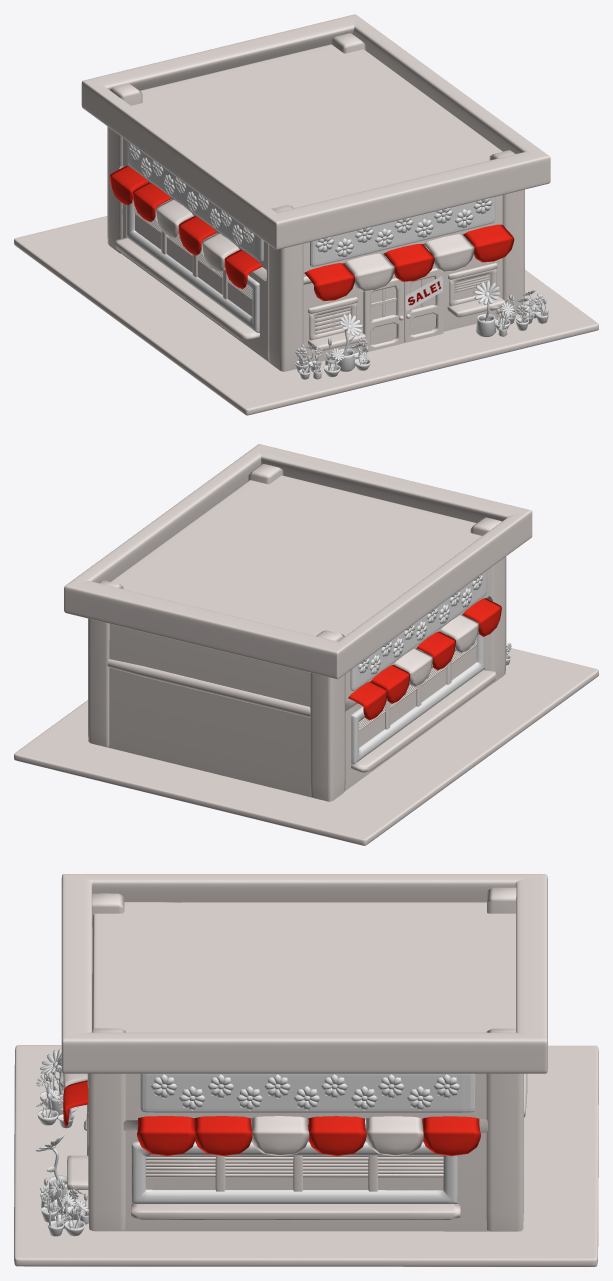
File: FLORISTERIA-BIEN.fbx
3 renders of one model, top to bottom at view 1: azimuth 30°, elevation 25°; view 2: azimuth 150°, elevation 25°; view 3: azimuth 270°, elevation 25°, orthographic. The views are drawn at different scales.
Parts seen in each view (by area): view 1: Cube.076, Cube.106, Cube.057, Cube.055, Cube.105, Cube.104, Cube.056, Cube.107, Cube.103, Cube.086, BezierCurve.005, Cube.054 (+11 smaller); view 2: Cube.076, Cube.106, Cube.057, Cube.104, Cube.055, Cube.054, Cube.107, Cylinder.006, Cube.103, Cube.086, BezierCurve.008, Cube.081; view 3: Cube.076, Cube.106, Cube.057, Cube.055, Cube.085, Cube.087, Cube.092, Cube.091, Cube.100, BezierCurve.012, Cube.058, Cube.094 (+3 smaller).
Part boxes in pixels (x1=…): Cube.076: x1=122, y1=44, x2=502, y2=362; Cube.106: x1=81, y1=14, x2=550, y2=249; Cube.057: x1=14, y1=216, x2=598, y2=415; Cube.055: x1=268, y1=33, x2=524, y2=371; Cube.105: x1=304, y1=224, x2=514, y2=301; Cube.104: x1=109, y1=166, x2=262, y2=289; Cube.056: x1=310, y1=197, x2=495, y2=266; Cube.107: x1=115, y1=237, x2=259, y2=341; Cube.103: x1=126, y1=199, x2=259, y2=332; Cube.086: x1=127, y1=141, x2=263, y2=261; BezierCurve.005: x1=315, y1=198, x2=492, y2=257; Cube.054: x1=107, y1=83, x2=142, y2=253; Cube.076: x1=106, y1=475, x2=492, y2=801; Cube.106: x1=64, y1=444, x2=532, y2=679; Cube.057: x1=14, y1=648, x2=598, y2=845; Cube.104: x1=348, y1=598, x2=501, y2=720; Cube.055: x1=88, y1=464, x2=506, y2=746; Cube.054: x1=310, y1=630, x2=345, y2=801; Cube.107: x1=351, y1=669, x2=495, y2=772; Cylinder.006: x1=107, y1=596, x2=492, y2=717; Cube.103: x1=351, y1=631, x2=484, y2=764; Cube.086: x1=350, y1=570, x2=487, y2=690; BezierCurve.008: x1=358, y1=574, x2=482, y2=674; Cube.081: x1=359, y1=637, x2=477, y2=730; Cube.076: x1=92, y1=902, x2=521, y2=1231; Cube.106: x1=61, y1=874, x2=547, y2=1073; Cube.057: x1=14, y1=1045, x2=598, y2=1266; Cube.055: x1=88, y1=893, x2=523, y2=1231; Cube.085: x1=137, y1=1116, x2=480, y2=1156; Cube.087: x1=140, y1=1073, x2=475, y2=1112; Cube.092: x1=131, y1=1141, x2=457, y2=1204; Cube.091: x1=146, y1=1155, x2=443, y2=1177; Cube.100: x1=131, y1=1204, x2=460, y2=1219; BezierCurve.012: x1=150, y1=1074, x2=460, y2=1110; Cube.058: x1=36, y1=1048, x2=70, y2=1203; Cube.094: x1=215, y1=1155, x2=377, y2=1191.
Size of the model in its own units: 944 by 438 by 1084.
4 materials, 1 textured.
